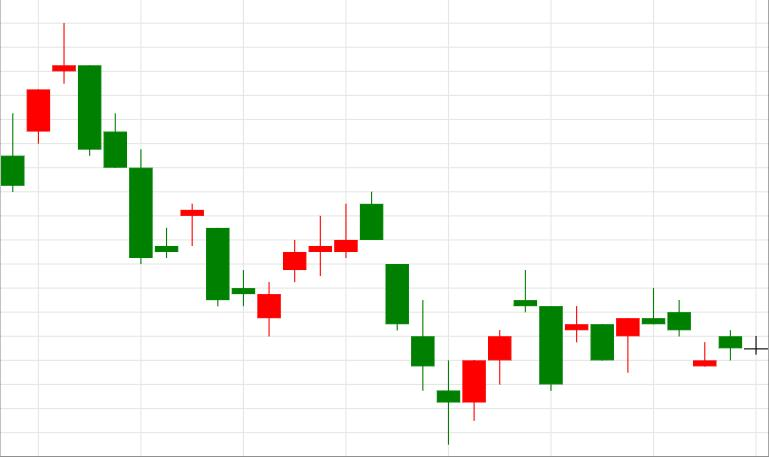evening_star_fall: (437, 270, 562, 443)
three_black_crows_fall: (258, 191, 434, 392)
